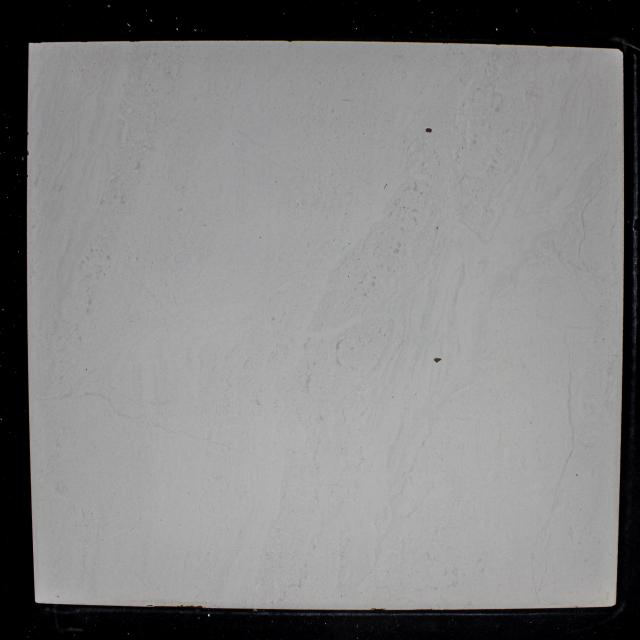edge-chipping: (369, 608, 386, 611), (618, 48, 624, 53)
hole: (433, 356, 442, 363), (425, 127, 433, 134)
